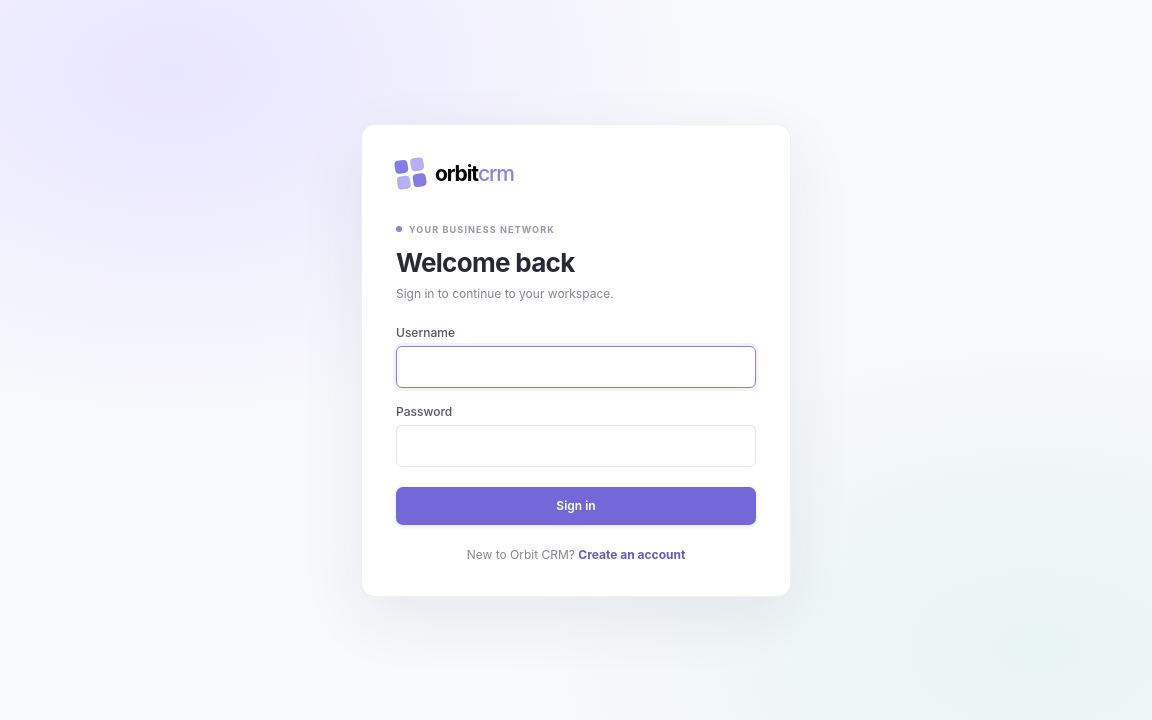
Test: deletes a company and clears its contact associations from backend results
In the field labelled "Username": (576, 366) [396,346,756,388], type "taylor"
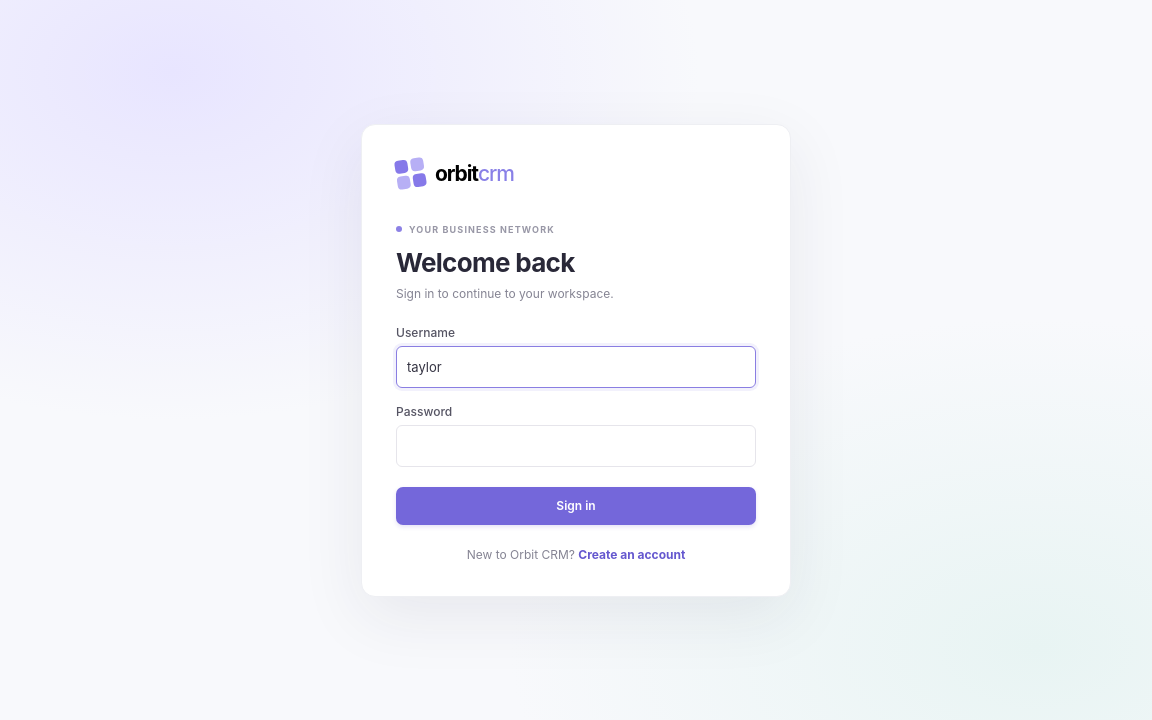
In the password field labelled "Password": (576, 446) [396,424,756,466], type "a-long-unique-password"
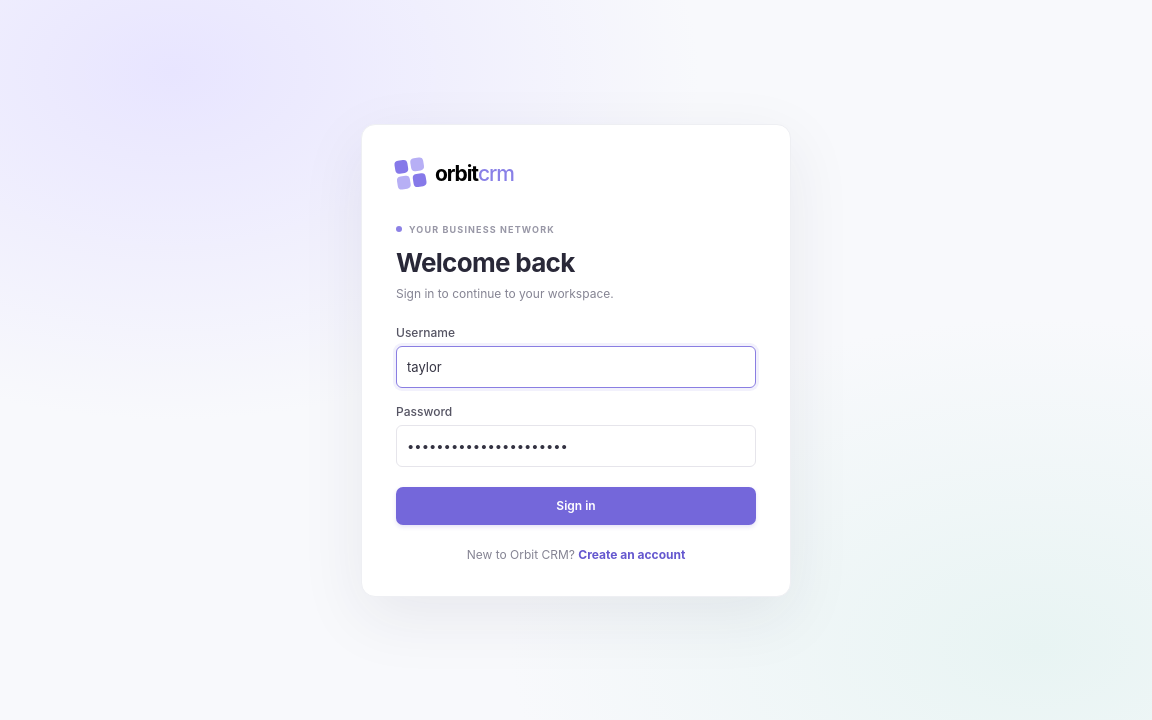
Click the button "Sign in": (576, 506) [396,486,756,524]
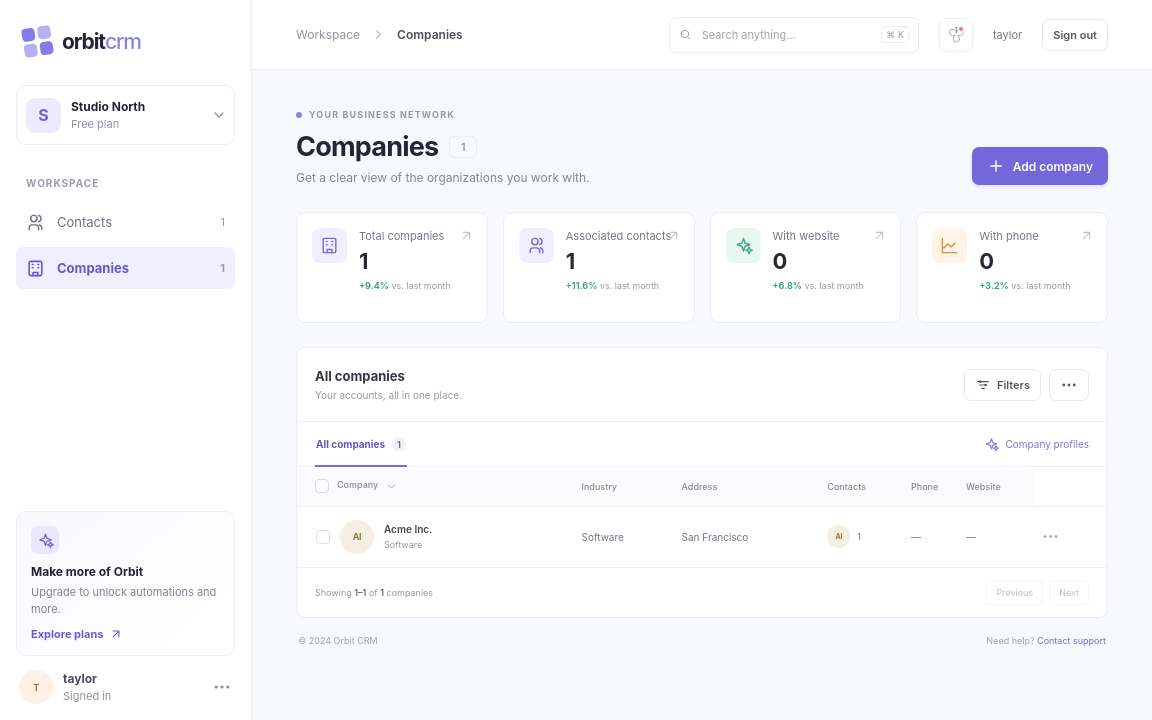
Now the text "Sign in" is gone
Now the button "Acme Inc." is shown, box [384,523,432,535]
Click the checkbox named "Select Acme Inc.": (323, 537) [316,530,330,544]
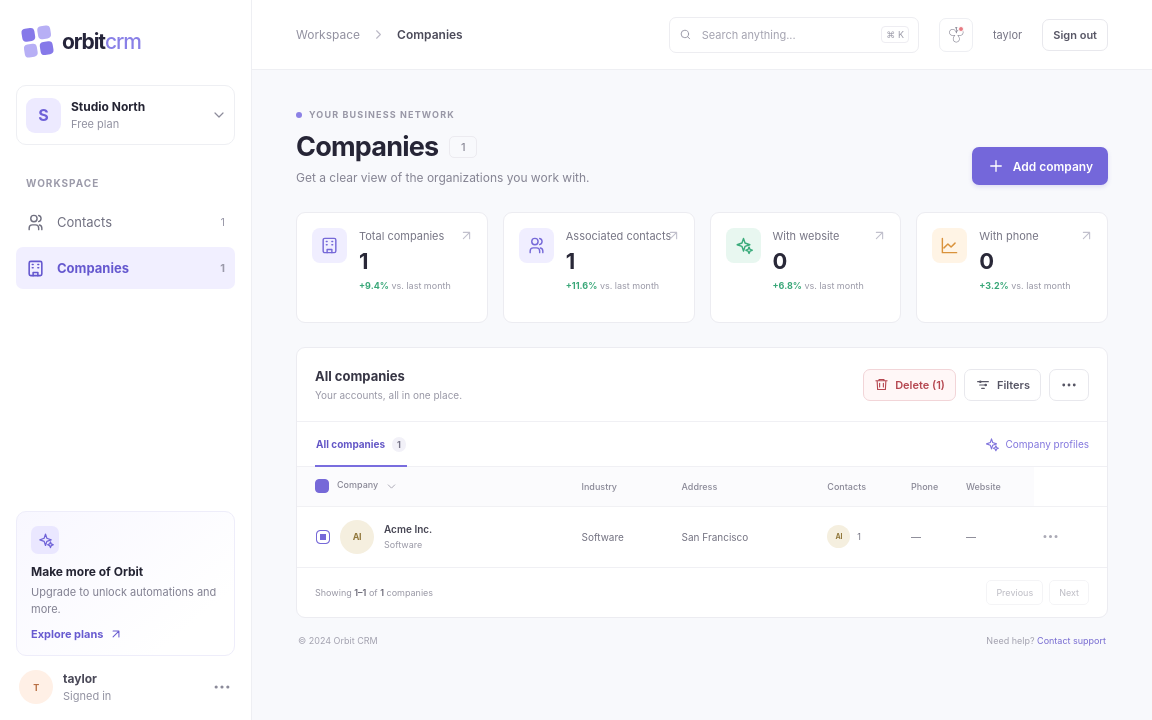
Click the button with aria-label "Delete 1 selected companies": (910, 384) [863,368,956,400]
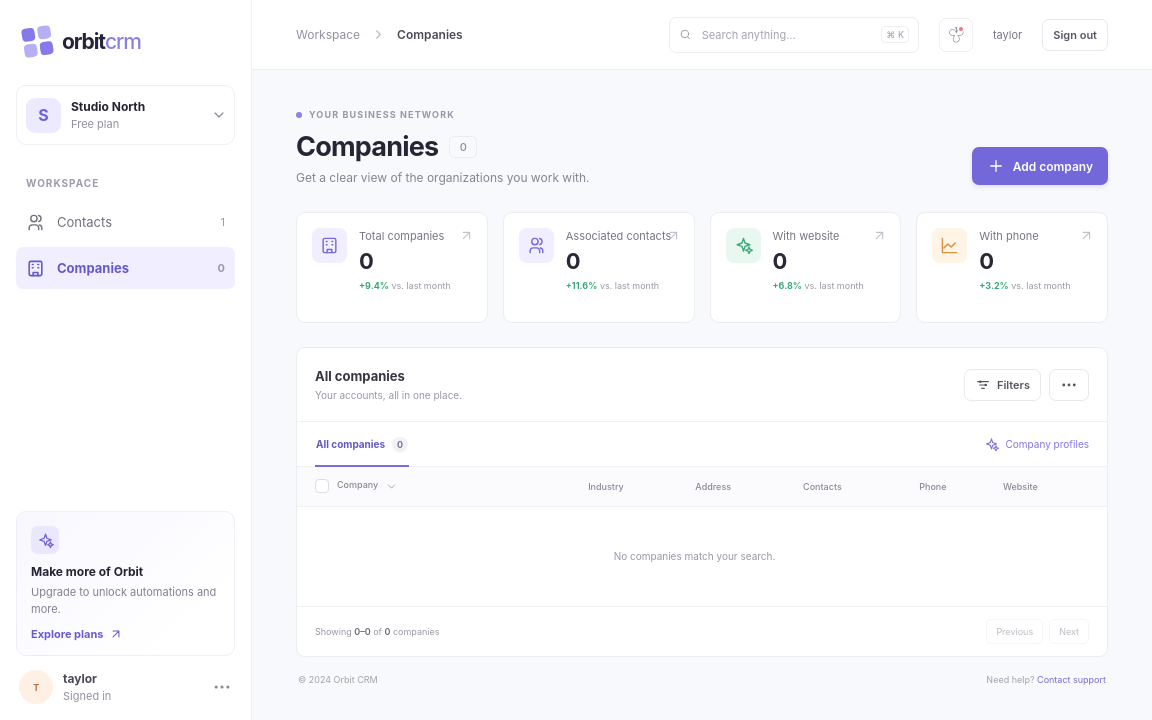
Now the button "Acme Inc." is gone
